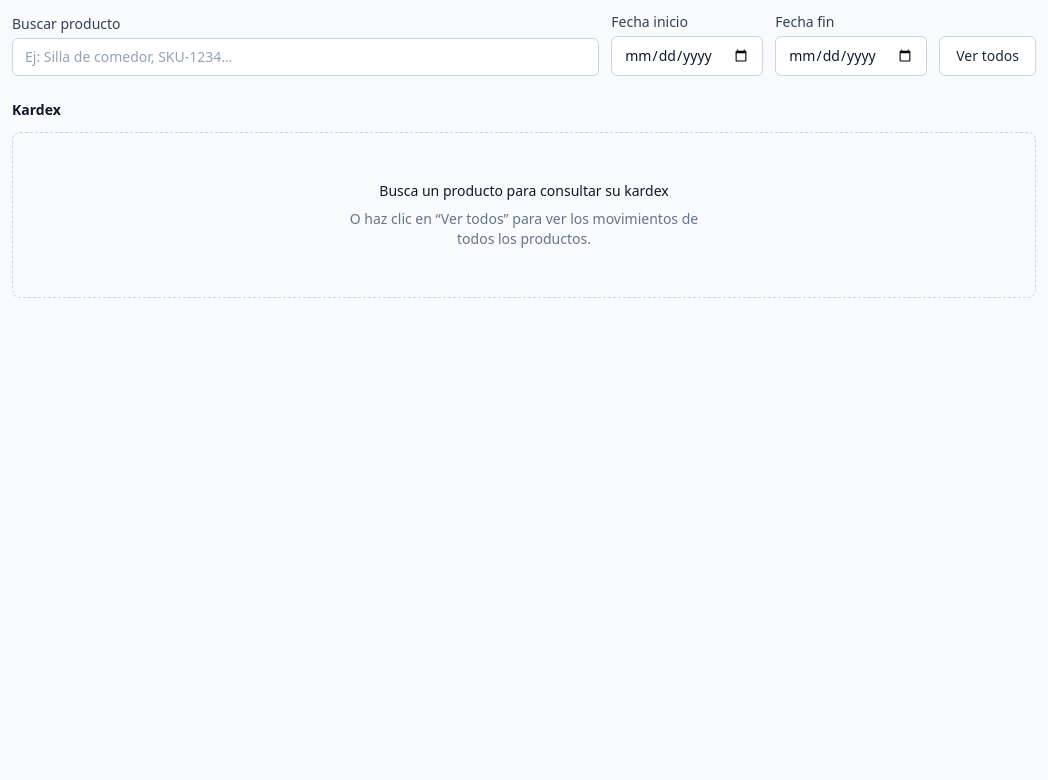
Test: KardexExplorer › clicking a row in "Ver todos" jumps to that exact product's Kardex, taking the row's own almacén even when the variant has stock in more than one
Click the button "Ver todos".
click(988, 56)  # box [939,36,1036,76]
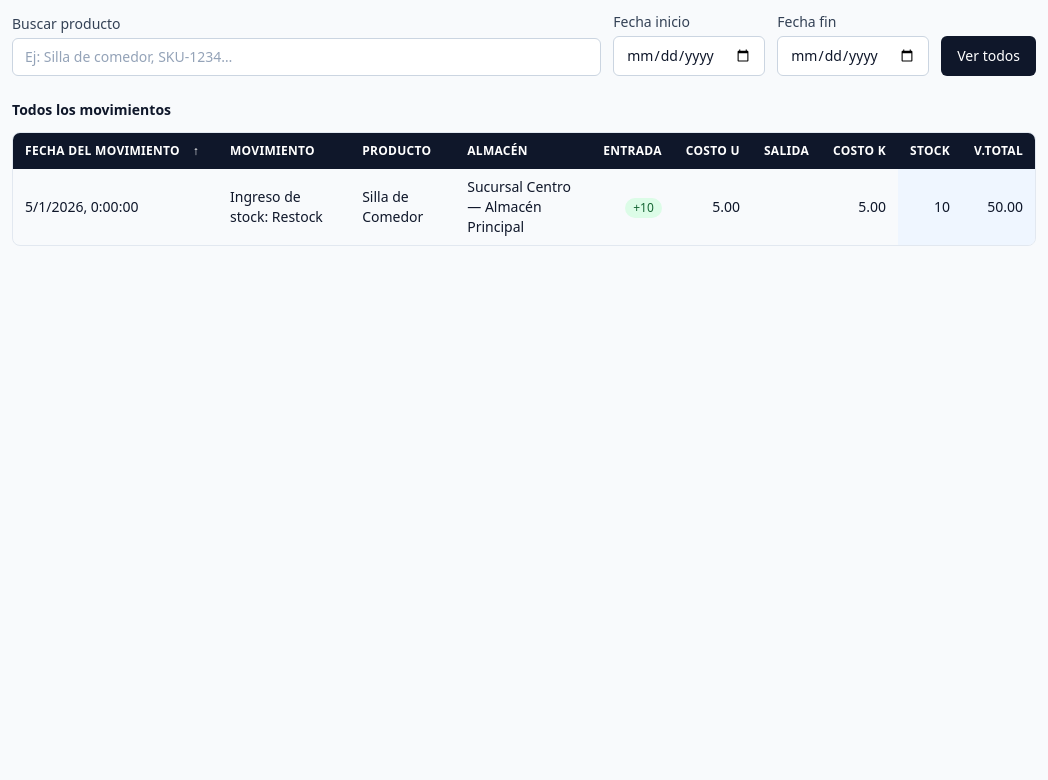
Expected: the heading "Todos los movimientos" is shown, [12,100,171,120]
Click the text "Ingreso de stock: Restock".
click(524, 207)  # box [13,169,1035,245]
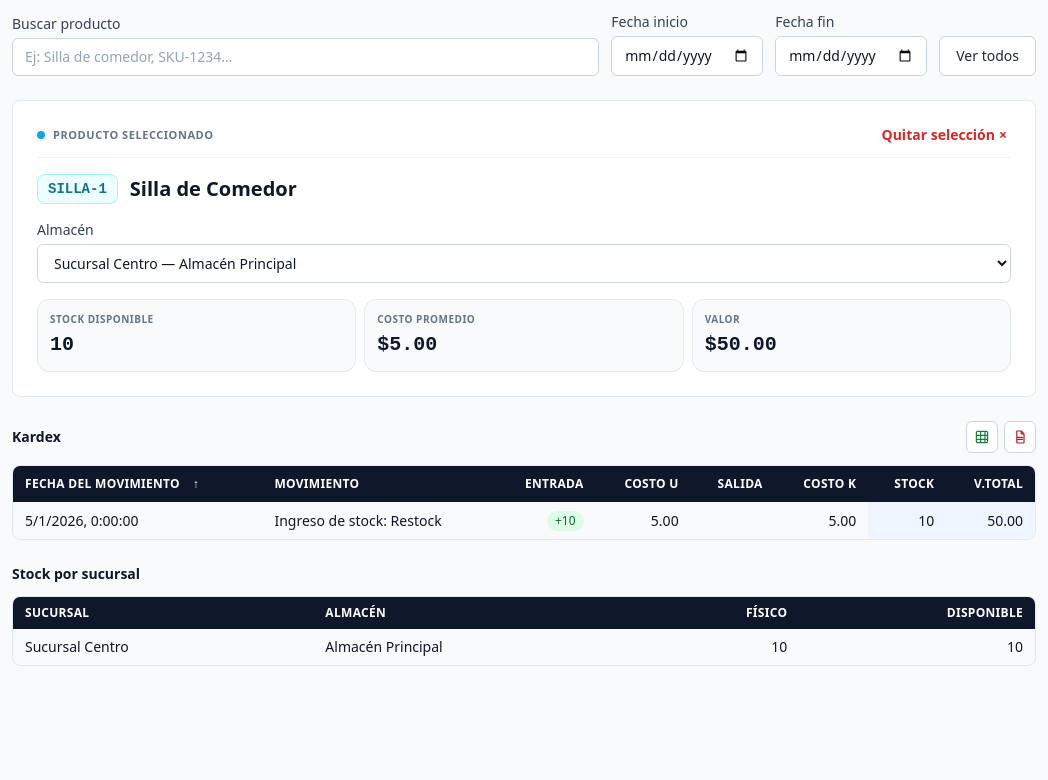
Expected: the heading "Silla de Comedor" is shown, [130,175,297,203]
Expected: the heading "Todos los movimientos" is gone
Expected: the text "Producto seleccionado" is shown, [37,127,214,143]
